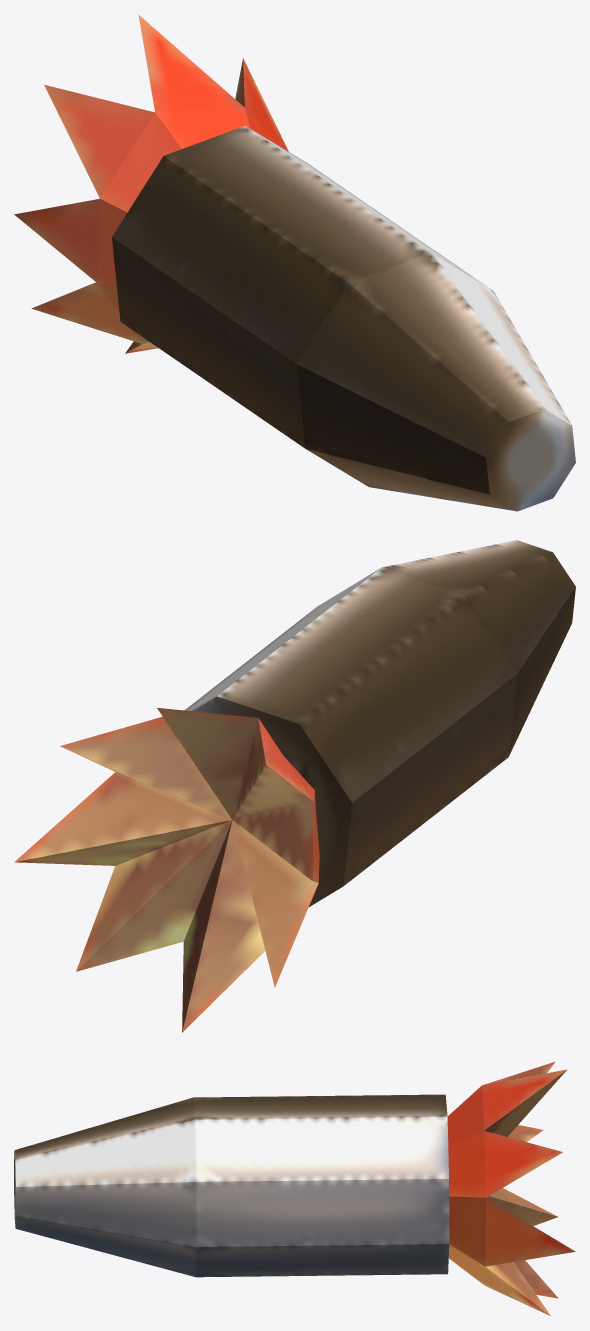
3 renders of one model, top to bottom at view 1: azimuth 30°, elevation 25°; view 2: azimuth 150°, elevation 25°; view 3: azimuth 270°, elevation 25°, orthographic. The views are drawn at different scales.
Parts seen in each view (by area): view 1: Bala_Cylinder.003, Fogonazo_Cylinder.004; view 2: Bala_Cylinder.003, Fogonazo_Cylinder.004; view 3: Bala_Cylinder.003, Fogonazo_Cylinder.004.
Boxes of the visible parts, bbox=[...] form: Bala_Cylinder.003: bbox=[112, 125, 575, 511]; Fogonazo_Cylinder.004: bbox=[14, 14, 288, 353]; Bala_Cylinder.003: bbox=[184, 540, 575, 906]; Fogonazo_Cylinder.004: bbox=[14, 708, 319, 1032]; Bala_Cylinder.003: bbox=[14, 1094, 449, 1277]; Fogonazo_Cylinder.004: bbox=[447, 1062, 575, 1315].
Size of what is drawn, in the model's own units: 0.3608 by 0.406 by 0.8754.
